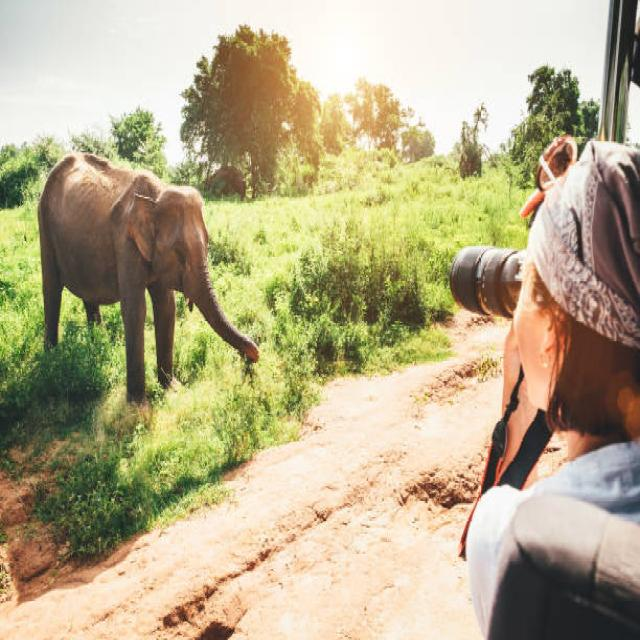Elephant: (36, 141, 267, 421)
